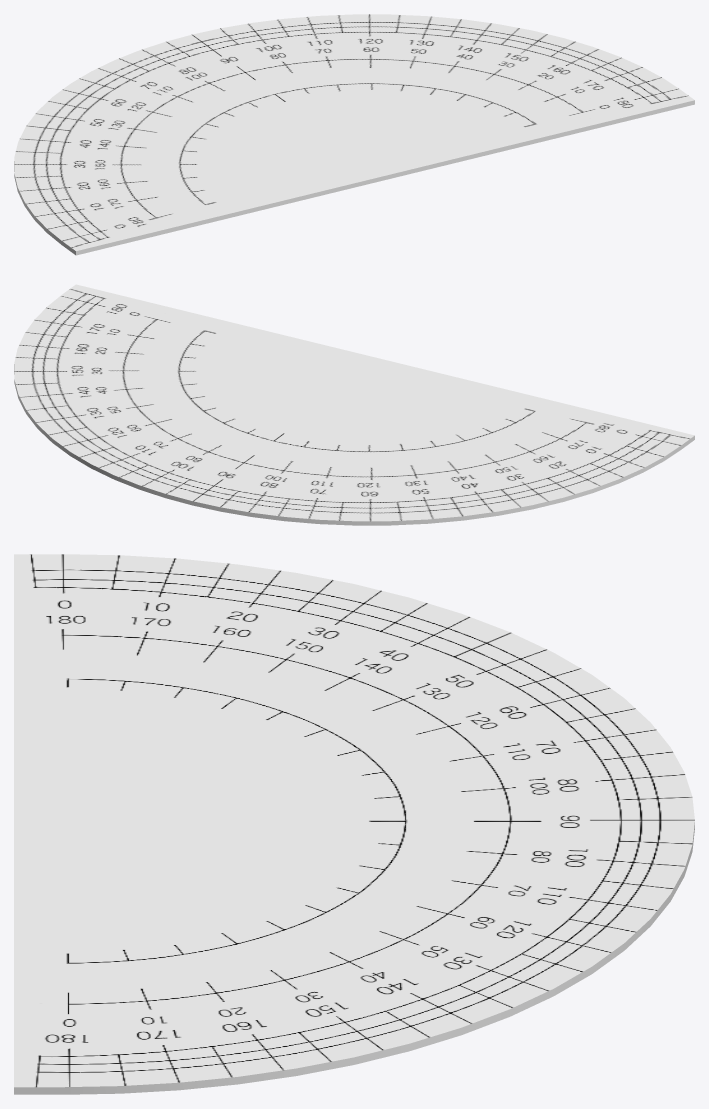
The model's file is 428_分度器.glb.
3 views of the same model, one above another, from view 1: azimuth 30°, elevation 25°; view 2: azimuth 150°, elevation 25°; view 3: azimuth 270°, elevation 25° (orthographic). The views are drawn at different scales.
Visible parts, largest first — view 1: 428_分度器; view 2: 428_分度器; view 3: 428_分度器.
Boxes of the visible parts, <box> form: 428_分度器: <box>14,14,694,255</box>; 428_分度器: <box>14,284,694,525</box>; 428_分度器: <box>14,554,694,1094</box>.
Size of the model in its own units: 0.15 by 0.001 by 0.081.
Materials: 1 (1 with a texture image).
